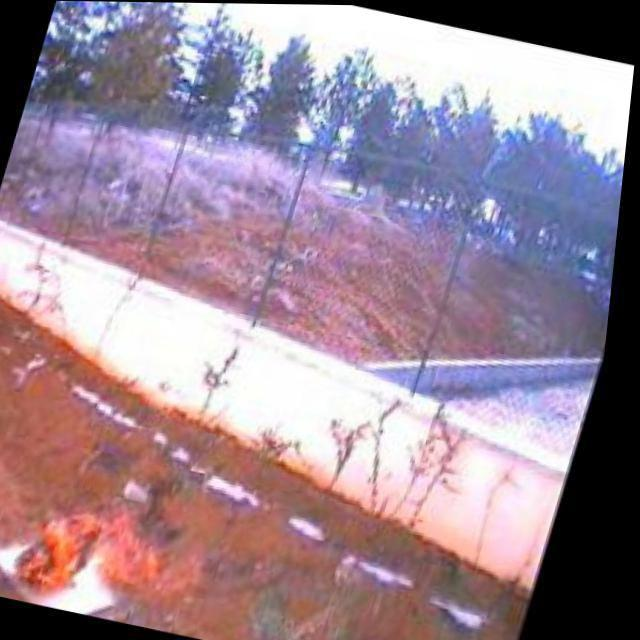fire: (14, 485, 208, 623)
